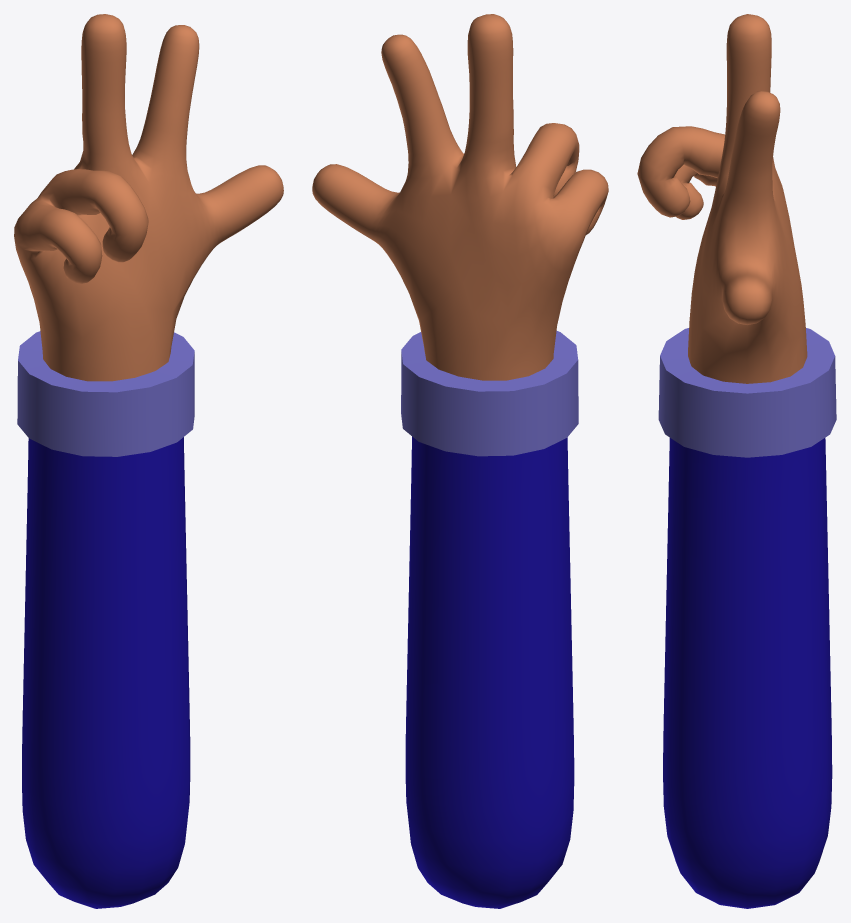
Rendered from hand.obj.
3 renders of one model, left to right at view 1: azimuth 30°, elevation 25°; view 2: azimuth 150°, elevation 25°; view 3: azimuth 270°, elevation 25°, orthographic.
Visible parts, largest first — view 1: Sleeve_Cube.004, Cube_Cube.002, Upper_Sleeve_Cube.005; view 2: Sleeve_Cube.004, Cube_Cube.002, Upper_Sleeve_Cube.005; view 3: Sleeve_Cube.004, Cube_Cube.002, Upper_Sleeve_Cube.005.
Part boxes in pixels (left/top/right/bottom): Sleeve_Cube.004: left=22, top=437, right=190, bottom=908; Cube_Cube.002: left=14, top=14, right=283, bottom=381; Upper_Sleeve_Cube.005: left=17, top=331, right=194, bottom=456; Sleeve_Cube.004: left=405, top=436, right=574, bottom=908; Cube_Cube.002: left=312, top=14, right=608, bottom=380; Upper_Sleeve_Cube.005: left=401, top=331, right=578, bottom=456; Sleeve_Cube.004: left=663, top=438, right=832, bottom=908; Cube_Cube.002: left=637, top=14, right=807, bottom=383; Upper_Sleeve_Cube.005: left=658, top=328, right=836, bottom=457.
Size of the model in its own units: 1.93 by 6.16 by 1.26.
